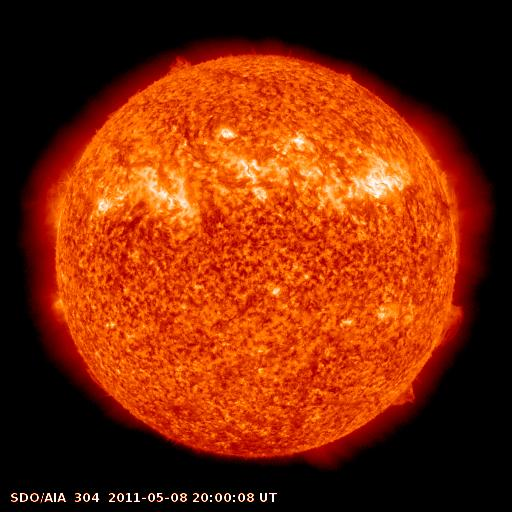prominence: (423, 292, 475, 355), (382, 376, 428, 416), (155, 45, 204, 81)
